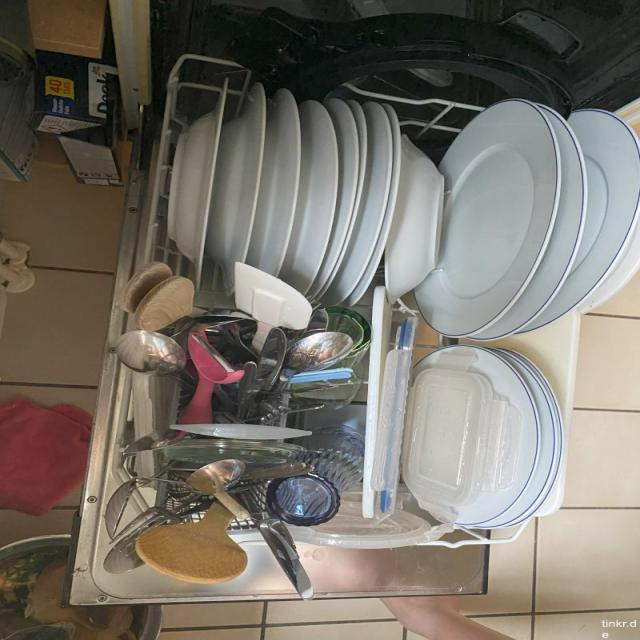clutery_bin: (130, 280, 325, 582)
